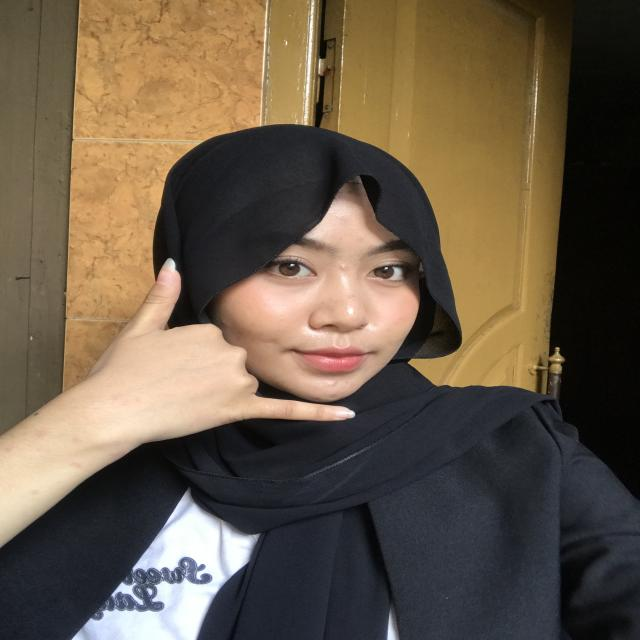telpon: (91, 240, 375, 477)
